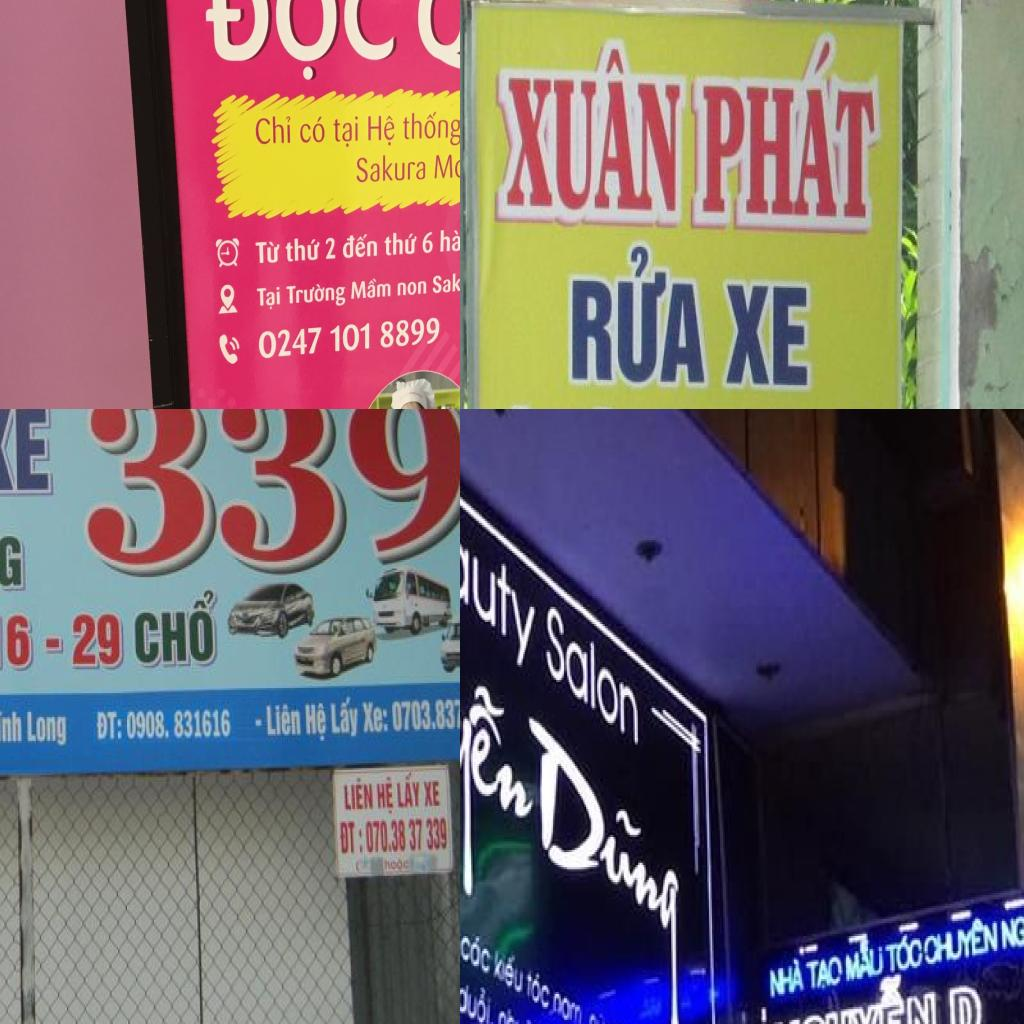text: (82, 409, 460, 578), (524, 712, 682, 1024), (692, 34, 880, 226), (495, 39, 687, 223), (460, 551, 539, 932), (568, 237, 708, 387), (460, 467, 543, 669), (204, 0, 396, 82), (544, 602, 642, 749), (770, 964, 940, 1024), (723, 283, 810, 390), (258, 316, 441, 360), (135, 589, 218, 669), (0, 409, 54, 497), (922, 914, 1000, 968), (126, 707, 233, 741), (70, 611, 124, 671), (366, 816, 448, 854), (355, 152, 428, 184), (392, 698, 460, 732), (402, 109, 460, 147), (843, 936, 885, 985), (882, 932, 925, 977), (0, 613, 33, 671), (460, 974, 497, 1024), (462, 925, 494, 979), (493, 947, 526, 996), (286, 281, 348, 307), (26, 710, 68, 748), (805, 955, 844, 992), (494, 1000, 554, 1024), (769, 958, 805, 998), (525, 966, 553, 1016), (332, 695, 362, 741), (1001, 897, 1024, 955), (266, 704, 302, 738), (254, 114, 292, 146), (342, 778, 375, 811), (552, 990, 584, 1024), (350, 276, 392, 301), (342, 232, 378, 260), (304, 702, 328, 744), (284, 236, 321, 263), (367, 113, 396, 147), (94, 710, 123, 743), (362, 700, 390, 734), (396, 772, 421, 809), (383, 231, 418, 257), (339, 820, 364, 856), (332, 114, 358, 148), (433, 148, 460, 180), (375, 777, 396, 816), (0, 710, 24, 744), (299, 115, 326, 145), (431, 269, 460, 295), (254, 240, 281, 265), (256, 285, 281, 312), (439, 227, 460, 257), (396, 279, 427, 297), (423, 780, 442, 808), (44, 637, 63, 654), (324, 236, 337, 260), (422, 230, 434, 256), (587, 1009, 606, 1024)
